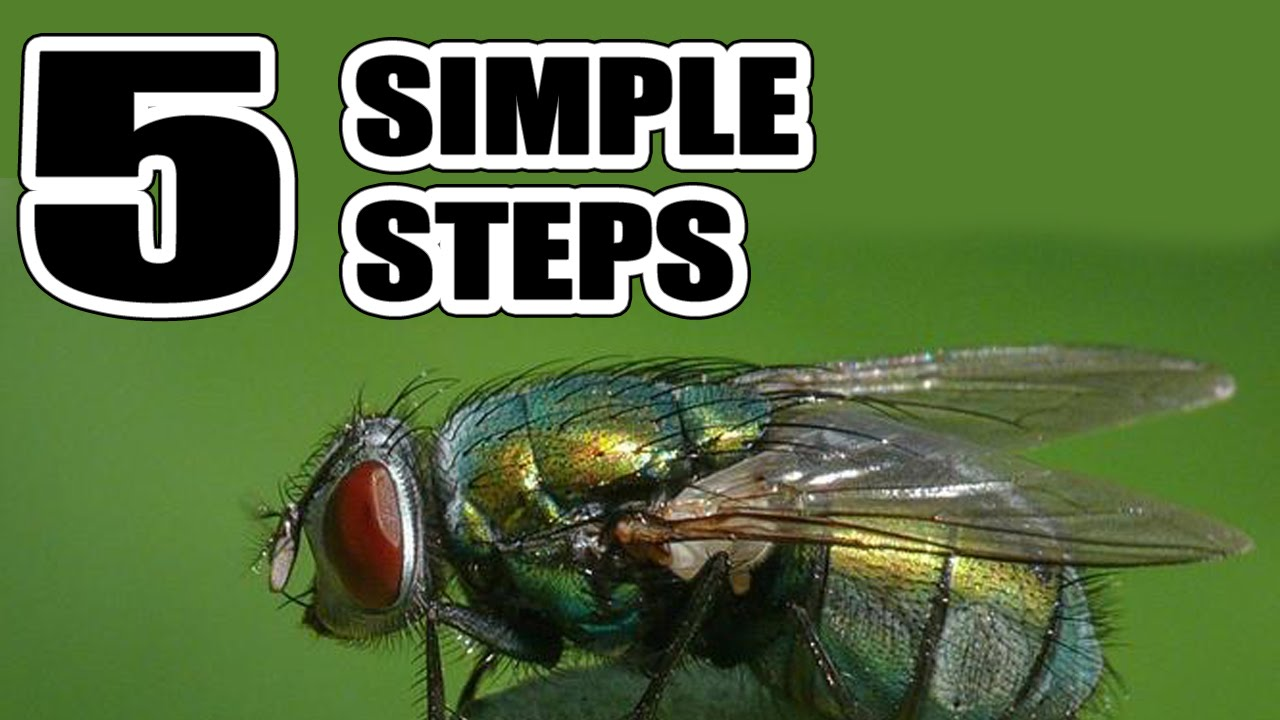house fly: (235, 345, 1275, 720)
